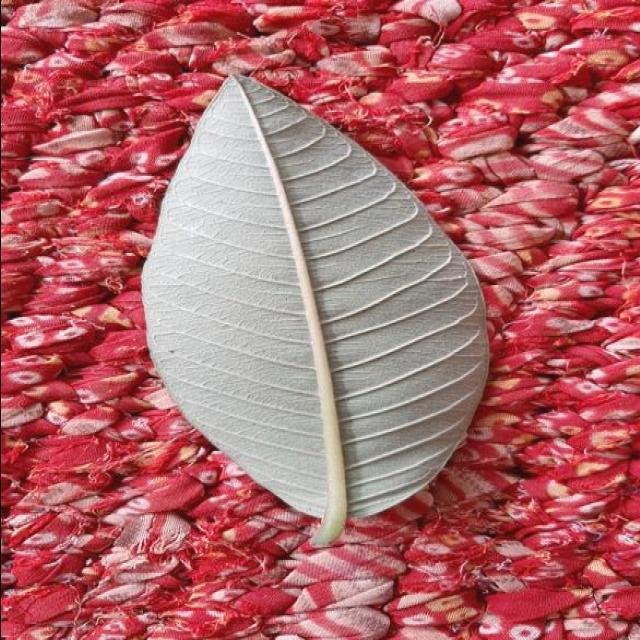leaf: (139, 72, 490, 546)
